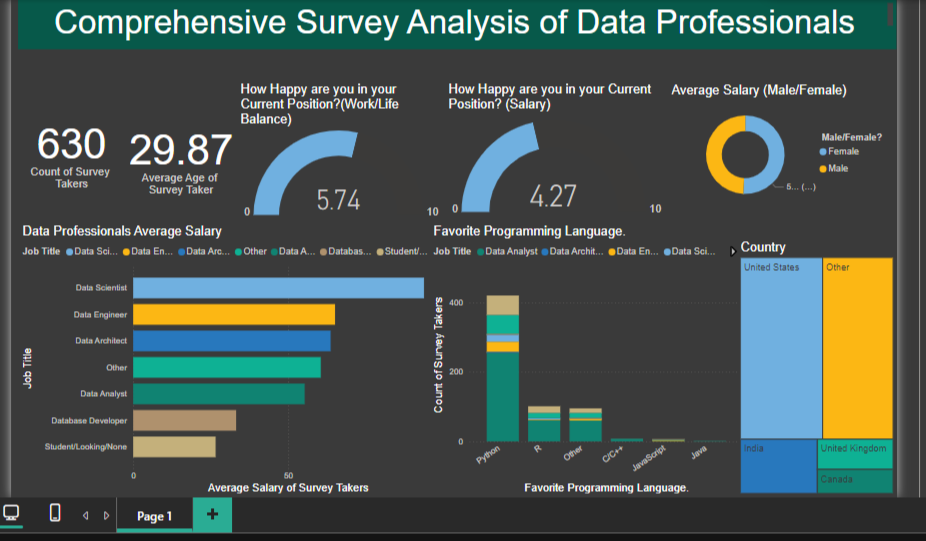

The dashboard page shown, as its layout file describes it:
{"tool":"powerbi","page":{"name":"Page 1","canvas":[1280,720],"ordinal":0},"visuals":[{"type":"textbox","box":[9.9,0,1270.1,72.5],"z":0},{"type":"card","fields":{"Values":["CountNonNull(Data Professional Survey.SerialNumber)"]},"box":[9.9,117,154.9,191.1],"z":1000},{"type":"card","fields":{"Values":["Avg(Data Professional Survey.Q10 - Current Age)"]},"box":[164.7,117,161.4,207.6],"z":2000},{"type":"barChart","title":"Data Professionals Average Salary","fields":{"Category":["Data Professional Survey.Q1 - Which Title Best Fits your Current Role?.1"],"Y":["Avg(Data Professional Survey.Average Salary )"],"Series":["Data Professional Survey.Q1 - Which Title Best Fits your Current Role?.1"]},"box":[11.5,324.5,629.3,395.4],"z":3000},{"type":"columnChart","title":"Favorite Programming Language.","fields":{"Category":["Data Professional Survey.Q5 - Favorite Programming Language.1"],"Y":["CountNonNull(Data Professional Survey.Unique ID )"],"Series":["Data Professional Survey.Q1 - Which Title Best Fits your Current Role?.1"]},"box":[606.2,324.5,458,395.4],"z":4000},{"type":"treemap","title":"Country ","fields":{"Group":["Data Professional Survey.Q11 - Which Country do you live in?.1"],"Values":["CountNonNull(Data Professional Survey.Q11 - Which Country do you live in?.1)"]},"box":[1049.4,347.6,230.6,372.3],"z":5000},{"type":"gauge","title":"How Happy are you in your Current Position?(Work/Life Balance)","fields":{"Y":["Avg(Data Professional Survey.Q6 - How Happy are you in your Current Position with the following? (Work/Life Balance))"],"MinValue":["Min(Data Professional Survey.Q6 - How Happy are you in your Current Position with the following? (Work/Life Balance))"],"MaxValue":["Max(Data Professional Survey.Q6 - How Happy are you in your Current Position with the following? (Work/Life Balance))"]},"box":[326.2,118.6,301.5,205.9],"z":6000},{"type":"gauge","title":"How Happy are you in your Current Position? (Salary)","fields":{"Y":["Avg(Data Professional Survey.Q6 - How Happy are you in your Current Position with the following? (Salary))"],"MinValue":["Min(Data Professional Survey.Q6 - How Happy are you in your Current Position with the following? (Salary))"],"MaxValue":["Max(Data Professional Survey.Q6 - How Happy are you in your Current Position with the following? (Salary))"]},"box":[627.6,118.6,322.9,207.6],"z":7000},{"type":"donutChart","title":"Average Salary (Male/Female)","fields":{"Y":["Avg(Data Professional Survey.Average Salary )"],"Category":["Data Professional Survey.Q9 - Male/Female?"]},"box":[950.5,120.3,329.5,187.8],"z":8000}]}

Visuals, with their boxes on the page's 1280x720 design canvas (x1, y1, x2, y2). These are canvas units, not pixel positions in the 926x541 screenshot, which may show the page scaled, cropped or inside an application window:
textbox: <region>10, 0, 1280, 72</region>
card - CountNonNull(Data Professional Survey.SerialNumber): <region>10, 117, 165, 308</region>
card - Avg(Data Professional Survey.Q10 - Current Age): <region>165, 117, 326, 325</region>
"Data Professionals Average Salary" barChart: <region>12, 324, 641, 720</region>
"Favorite Programming Language." columnChart: <region>606, 324, 1064, 720</region>
"Country " treemap: <region>1049, 348, 1280, 720</region>
"How Happy are you in your Current Position?(Work/Life Balance)" gauge: <region>326, 119, 628, 324</region>
"How Happy are you in your Current Position? (Salary)" gauge: <region>628, 119, 950, 326</region>
"Average Salary (Male/Female)" donutChart: <region>950, 120, 1280, 308</region>
